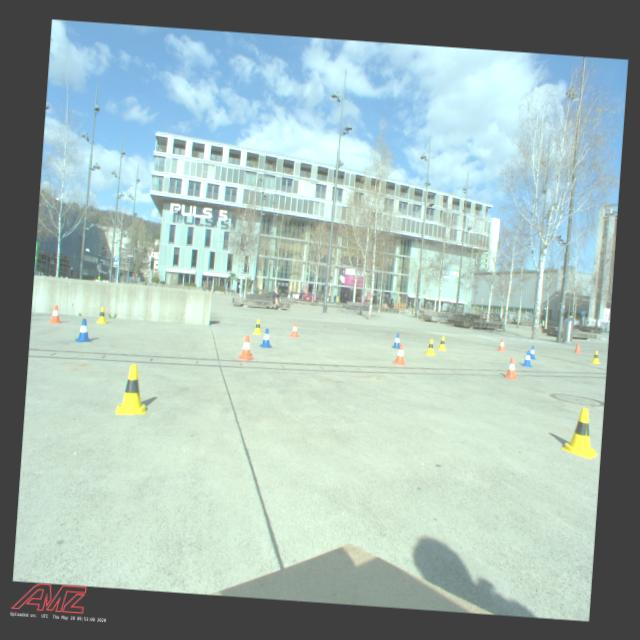blue_cone: (74, 318, 92, 342), (258, 328, 274, 348), (521, 350, 533, 368), (391, 333, 402, 349), (528, 346, 536, 360)
orange_cone: (237, 334, 256, 360), (502, 357, 518, 379), (393, 343, 407, 365), (49, 304, 62, 323), (290, 322, 300, 338), (497, 338, 506, 351), (573, 343, 581, 353)
yellow_cone: (560, 405, 601, 459), (115, 363, 148, 416), (423, 338, 438, 355), (96, 306, 108, 324), (252, 318, 262, 334), (436, 336, 446, 350), (590, 350, 600, 364)
